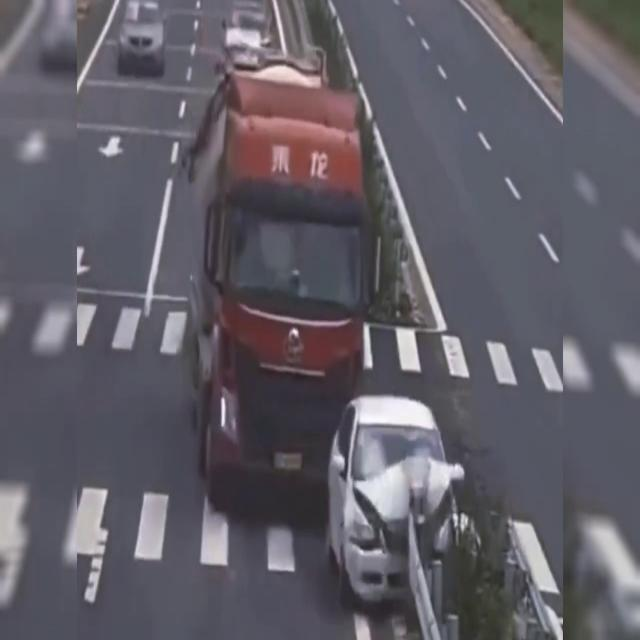accident: (177, 29, 467, 616)
